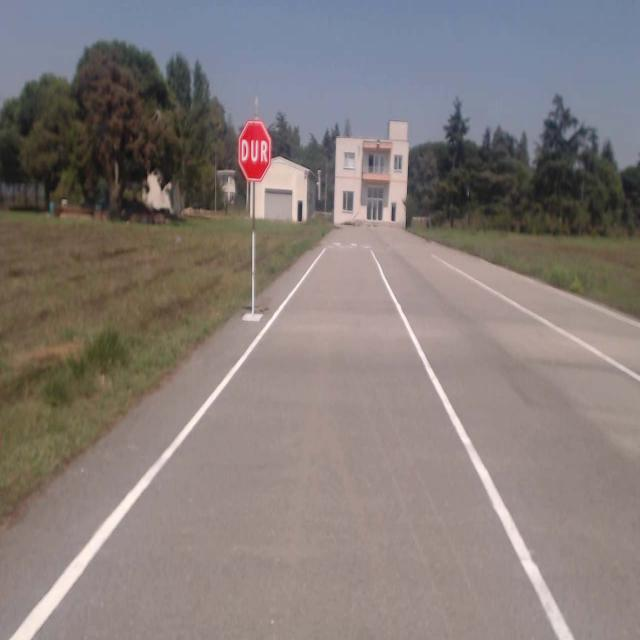dur: (238, 119, 272, 183)
